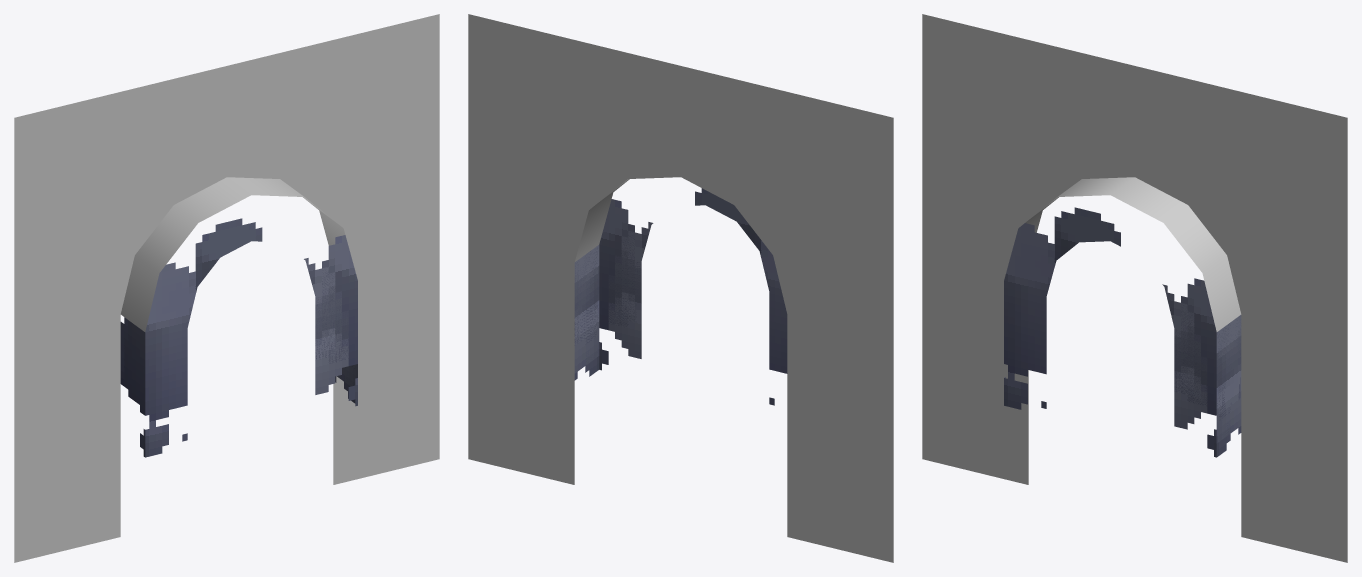
File: wallPaint_flat.dae
3 renders of one model, left to right at view 1: azimuth 30°, elevation 25°; view 2: azimuth 150°, elevation 25°; view 3: azimuth 330°, elevation 25°, orthographic.
Parts seen in each view (by area): view 1: wallPaint_flat; view 2: wallPaint_flat; view 3: wallPaint_flat.
Boxes of the visible parts, bbox=[...] form: wallPaint_flat: bbox=[14, 14, 439, 562]; wallPaint_flat: bbox=[468, 14, 893, 562]; wallPaint_flat: bbox=[922, 14, 1347, 562].
Size of the model in its own units: 1 by 1 by 0.1.
